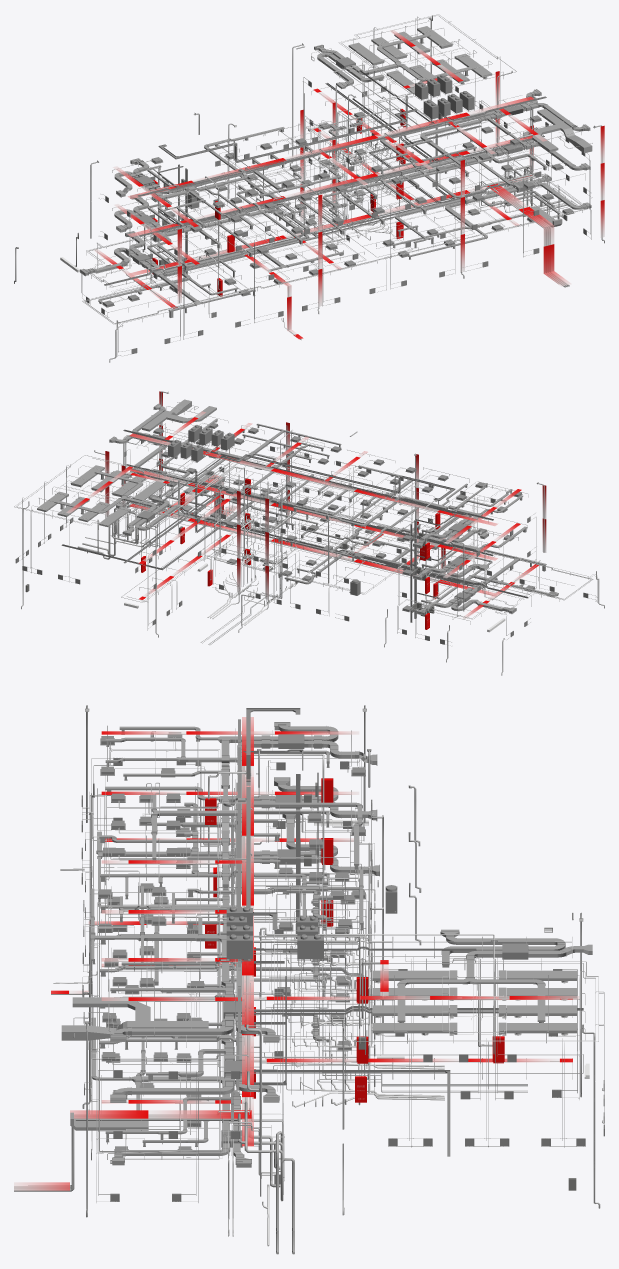
Rendered from jdxzl.gltf.
The picture shows the model from 3 angles, top to bottom: view 1: azimuth 30°, elevation 25°; view 2: azimuth 150°, elevation 25°; view 3: azimuth 270°, elevation 25°; orthographic projection. The views are drawn at different scales.
Visible parts, largest first — view 1: xzl3cjdfg, xzl1cjdsg, xzl3cjdsg, xzl1cjdfg, xzl2cjdsg, xzl2cjdfg, xzl1cjdsglx, xzl3cjdsglx, xzldcjdxhs, xzl2cjdsglx, xzl2cjdxhs, xzl3cjdxhs (+4 smaller); view 2: xzl1cjdsg, xzl3cjdfg, xzl3cjdsg, xzl2cjdsg, xzl1cjdfg, xzl2cjdfg, xzl3cjdsglx, xzldcjdxhs, xzl1cjdsglx, xzl2cjdxhs, xzl2cjdsglx, xzl3cjdxhs (+4 smaller); view 3: xzl3cjdfg, xzl1cjdsg, xzl3cjdsg, xzl2cjdsg, xzl2cjdfg, xzl1cjdfg, xzldcjdxhs, xzl3cjdsglx, xzl2cjdxhs, xzl1cjdsglx, xzl3cjdxhs, xzldcjddw (+4 smaller).
Boxes of the visible parts, x1,y1,x2,y2 form: xzl3cjdfg: (114, 26, 592, 228); xzl1cjdsg: (14, 95, 604, 362); xzl3cjdsg: (90, 14, 602, 266); xzl1cjdfg: (80, 174, 591, 317); xzl2cjdsg: (90, 47, 602, 303); xzl2cjdfg: (114, 127, 589, 270); xzl1cjdsglx: (93, 128, 604, 339); xzl3cjdsglx: (113, 29, 604, 266); xzldcjdxhs: (116, 56, 590, 232); xzl2cjdsglx: (114, 88, 604, 303); xzl2cjdxhs: (60, 80, 590, 307); xzl3cjdxhs: (105, 80, 590, 262); xzl1cjdsg: (21, 460, 604, 675); xzl3cjdfg: (37, 399, 523, 548); xzl3cjdsg: (14, 391, 544, 577); xzl2cjdsg: (19, 425, 544, 611); xzl1cjdfg: (116, 470, 558, 615); xzl2cjdfg: (111, 444, 527, 579); xzl3cjdsglx: (66, 391, 546, 544); xzldcjdxhs: (109, 403, 522, 548); xzl1cjdsglx: (129, 458, 538, 618); xzl2cjdxhs: (15, 460, 556, 632); xzl2cjdsglx: (105, 425, 546, 578); xzl3cjdxhs: (110, 426, 530, 580); xzl3cjdfg: (61, 722, 592, 1042); xzl1cjdsg: (14, 783, 600, 1254); xzl3cjdsg: (60, 705, 604, 1089); xzl2cjdsg: (82, 764, 604, 1147); xzl2cjdfg: (99, 777, 376, 1101); xzl1cjdfg: (70, 802, 379, 1167); xzldcjdxhs: (98, 722, 552, 1042); xzl3cjdsglx: (101, 717, 579, 1024); xzl2cjdxhs: (82, 809, 604, 1164); xzl1cjdsglx: (14, 838, 572, 1190); xzl3cjdxhs: (81, 757, 562, 1102); xzldcjddw: (238, 708, 476, 1032).
Size of the model in its own units: 61.32 by 18.04 by 38.62.
Materials: 18 (3 with a texture image).
